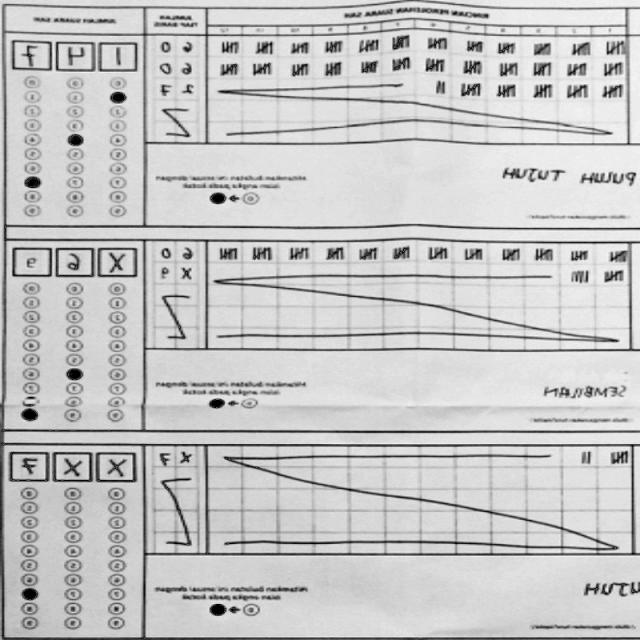Suara: (5, 242, 142, 282), (10, 38, 146, 78), (8, 446, 144, 486)
